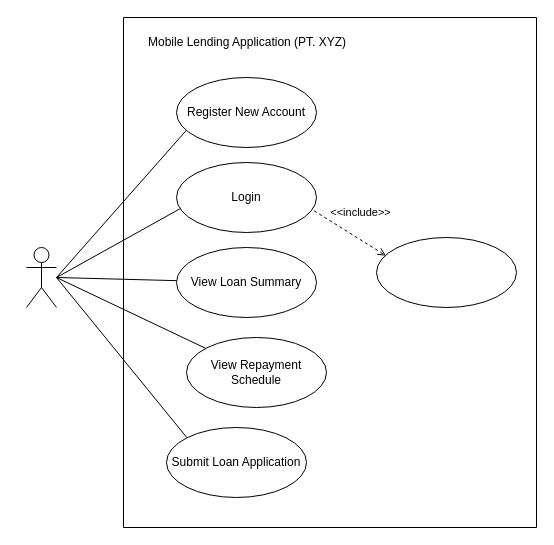
The diagram is 554 pixels wide and 545 high, and some of its shapes have lost their labels. Each missing label, with the centre of its shape:
Biometric Login: the point at 446,272
Borrower: the point at 41,277
